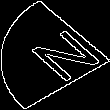N_SE: (11, 22, 99, 88)
